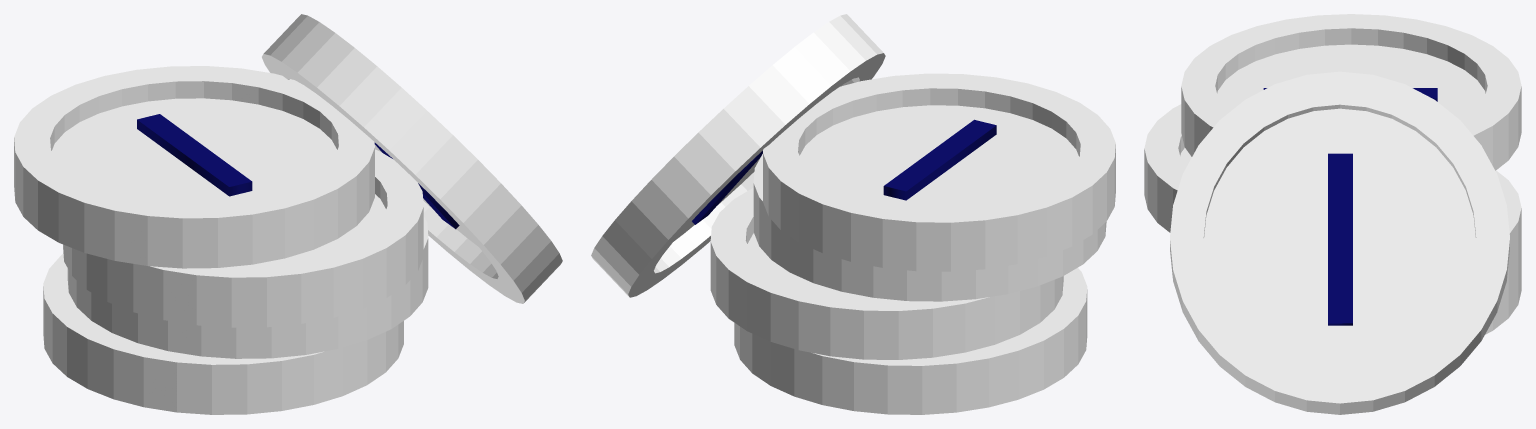
Rendered from stos_monet_1.fbx.
3 renders of one model, left to right at view 1: azimuth 30°, elevation 25°; view 2: azimuth 150°, elevation 25°; view 3: azimuth 270°, elevation 25°, orthographic. The views are drawn at different scales.
Parts seen in each view (by area): view 1: MONETA_1.003, MONETA_1.002, MONETA_1.004, MONETA_1, MONETA_1.001, NOMINAL_G.003; view 2: MONETA_1.003, MONETA_1.004, MONETA_1.001, MONETA_1, MONETA_1.002, NOMINAL_G.003, NOMINAL_D.004; view 3: MONETA_1.004, MONETA_1.003, NOMINAL_G.004, MONETA_1.002, MONETA_1.001, MONETA_1.
Part boxes in pixels (left/top/right/bottom): MONETA_1.003: left=14, top=66, right=374, bottom=268; MONETA_1.002: left=63, top=149, right=423, bottom=327; MONETA_1.004: left=262, top=14, right=562, bottom=303; MONETA_1: left=43, top=254, right=403, bottom=414; MONETA_1.001: left=67, top=216, right=428, bottom=358; NOMINAL_G.003: left=137, top=114, right=252, bottom=196; MONETA_1.003: left=763, top=73, right=1115, bottom=271; MONETA_1.004: left=591, top=14, right=885, bottom=297; MONETA_1.001: left=710, top=187, right=1063, bottom=359; MONETA_1: left=734, top=267, right=1087, bottom=414; MONETA_1.002: left=753, top=154, right=1106, bottom=301; NOMINAL_G.003: left=883, top=119, right=996, bottom=200; NOMINAL_D.004: left=692, top=151, right=762, bottom=224; MONETA_1.004: left=1170, top=71, right=1509, bottom=414; MONETA_1.003: left=1181, top=14, right=1521, bottom=170; NOMINAL_G.004: left=1328, top=153, right=1352, bottom=325; MONETA_1.002: left=1144, top=104, right=1191, bottom=232; MONETA_1.001: left=1495, top=170, right=1521, bottom=283; MONETA_1: left=1485, top=255, right=1521, bottom=334.
Bounding box in the file's own units: 308 × 177 × 222.
